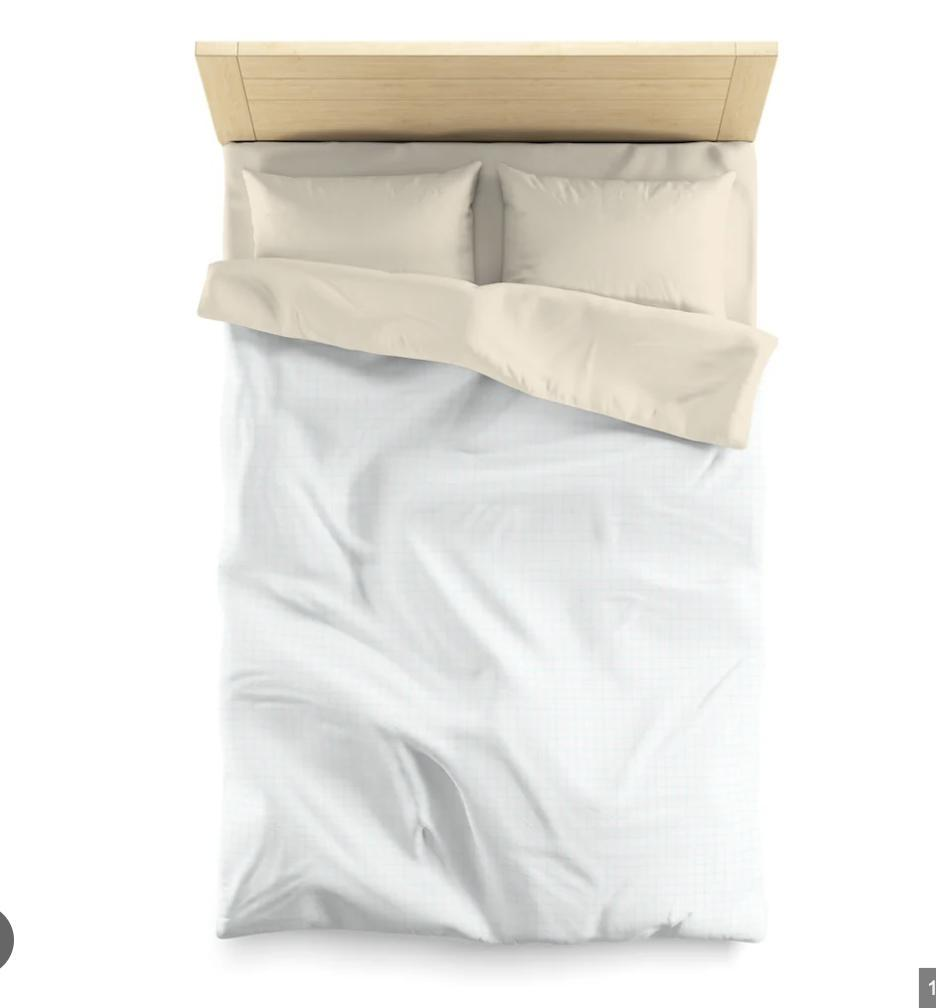Bed-Mattress: (184, 33, 786, 952)
